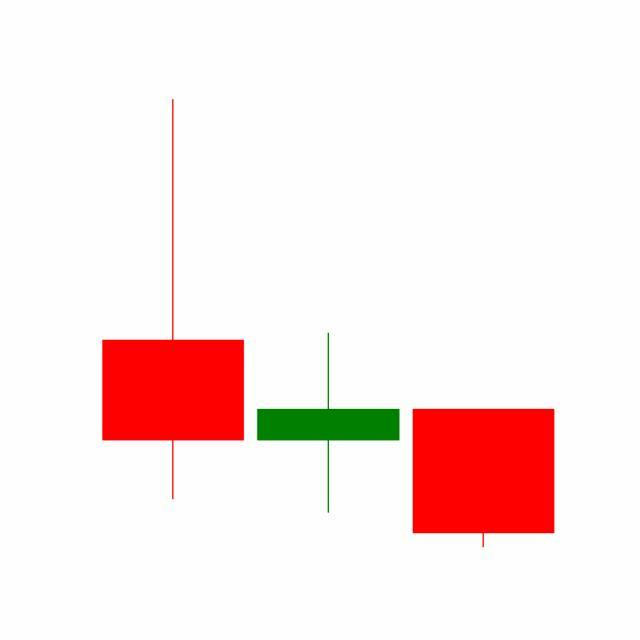Spinning Top: (250, 331, 407, 516)
